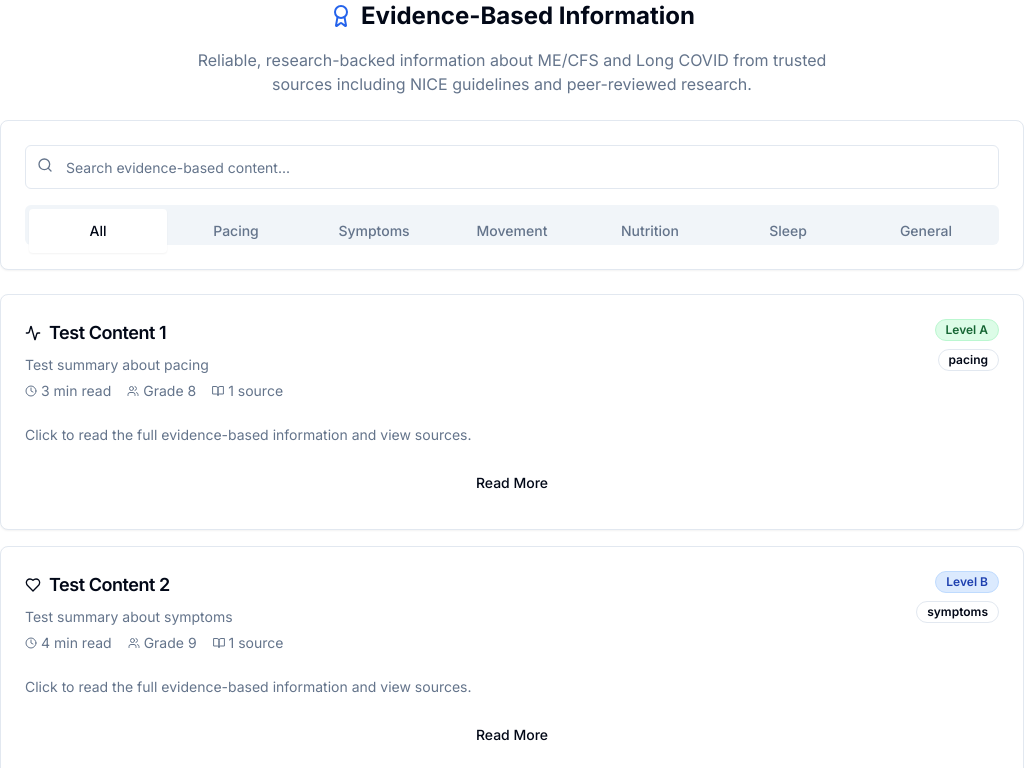
Test: EvidenceBasedContent › displays source information when expanded
The width and height of the screenshot is (1024, 768).
expect the heading "Test Content 1" is shown: met, box top-left (25, 322), bottom-right (166, 343)
What coordinates should you click on to do the following:
click the button "Read More" below "Test summary about pacing"
I would click on:
 (512, 483)
Its box is top-left (25, 461), bottom-right (999, 505).
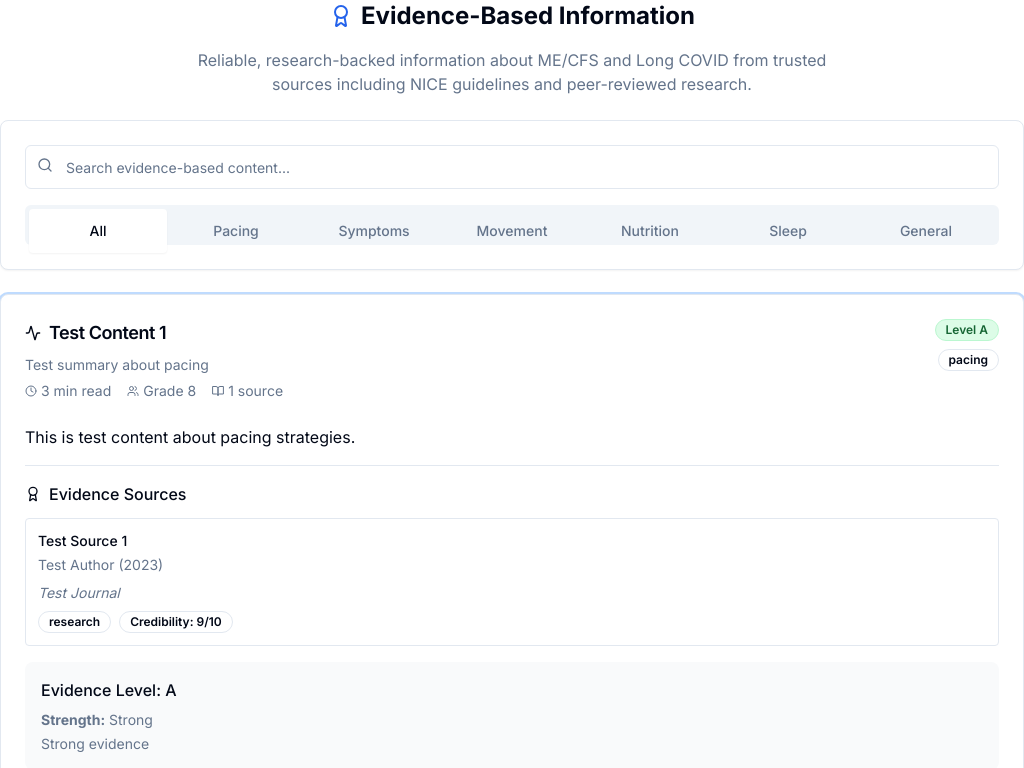
expect the text "Test Source 1" is shown: met, box top-left (38, 532), bottom-right (127, 549)
expect the text "Test Author (2023)" is shown: met, box top-left (38, 556), bottom-right (163, 573)
expect the text "Test Journal" is shown: met, box top-left (38, 584), bottom-right (120, 601)
